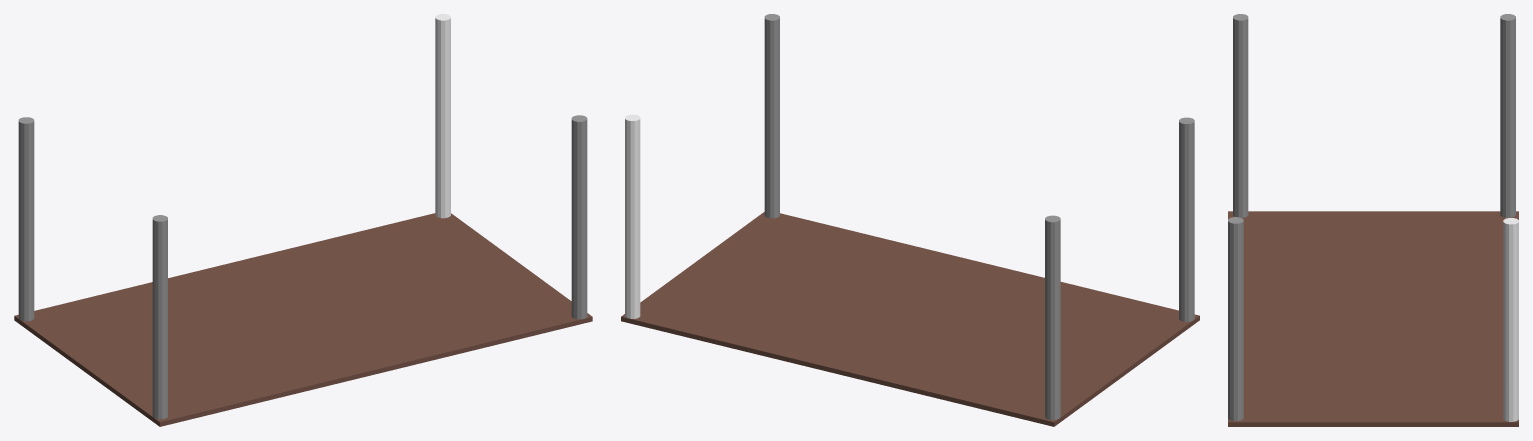
3 renders of one model, left to right at view 1: azimuth 30°, elevation 25°; view 2: azimuth 150°, elevation 25°; view 3: azimuth 270°, elevation 25°, orthographic.
Parts seen in each view (by area): view 1: mesh_688098677, mesh_1988301443, mesh_1584738527, mesh_1150255402, mesh_173249482; view 2: mesh_688098677, mesh_1150255402, mesh_1584738527, mesh_1988301443, mesh_173249482; view 3: mesh_688098677, mesh_1150255402, mesh_1584738527, mesh_1988301443, mesh_173249482.
Part boxes in pixels (<box>): mesh_688098677: <box>14,213,592,426</box>; mesh_1988301443: <box>571,115,587,319</box>; mesh_1584738527: <box>18,117,34,321</box>; mesh_1150255402: <box>435,14,450,218</box>; mesh_173249482: <box>152,215,167,419</box>; mesh_688098677: <box>621,212,1199,426</box>; mesh_1150255402: <box>625,114,640,318</box>; mesh_1584738527: <box>1045,215,1060,419</box>; mesh_1988301443: <box>764,14,779,218</box>; mesh_173249482: <box>1179,117,1194,321</box>; mesh_688098677: <box>1228,211,1518,426</box>; mesh_1150255402: <box>1503,218,1518,421</box>; mesh_1584738527: <box>1500,14,1515,217</box>; mesh_1988301443: <box>1228,217,1243,420</box>; mesh_173249482: <box>1233,14,1248,217</box>.
Bounding box in the file's own units: 779 × 348 × 454.
